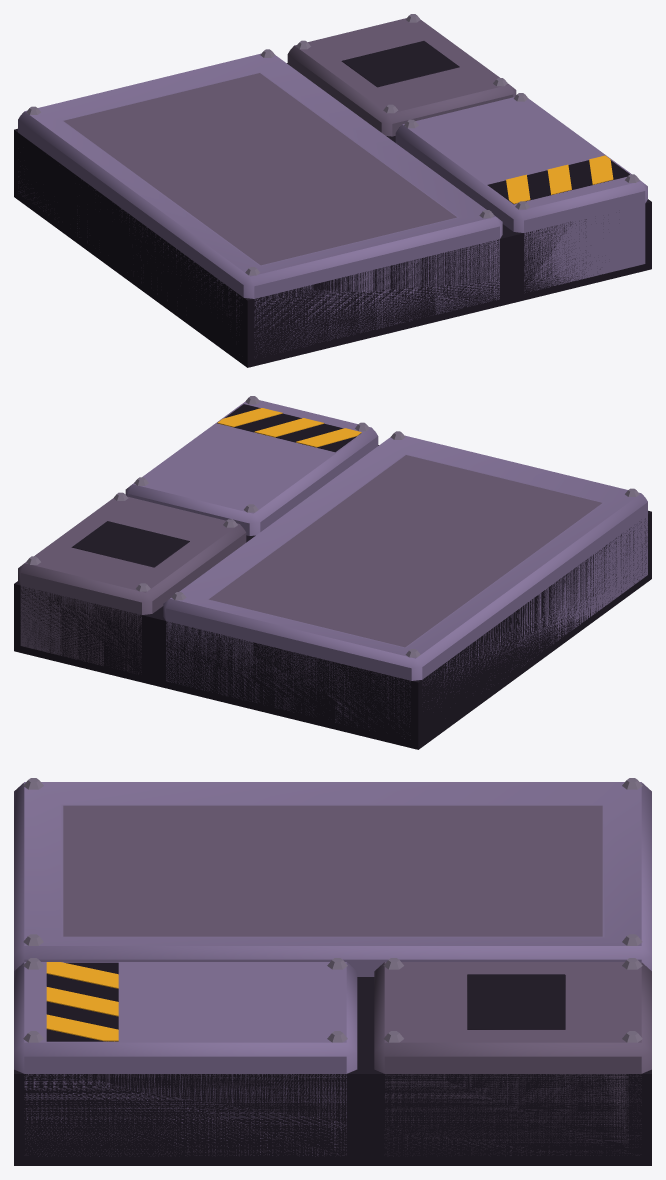
File: floor_solid__lower.glb
3 views of the same model, one above another, from view 1: azimuth 30°, elevation 25°; view 2: azimuth 150°, elevation 25°; view 3: azimuth 270°, elevation 25° (orthographic). The views are drawn at different scales.
Visible parts, largest first — view 1: floor_solid; view 2: floor_solid; view 3: floor_solid.
Part boxes in pixels (x1,y1,x2,y2): floor_solid: (14, 14, 651, 367); floor_solid: (14, 396, 651, 749); floor_solid: (14, 778, 651, 1165).
Bounding box in the file's own units: 0.974 × 0.2096 × 0.974.
